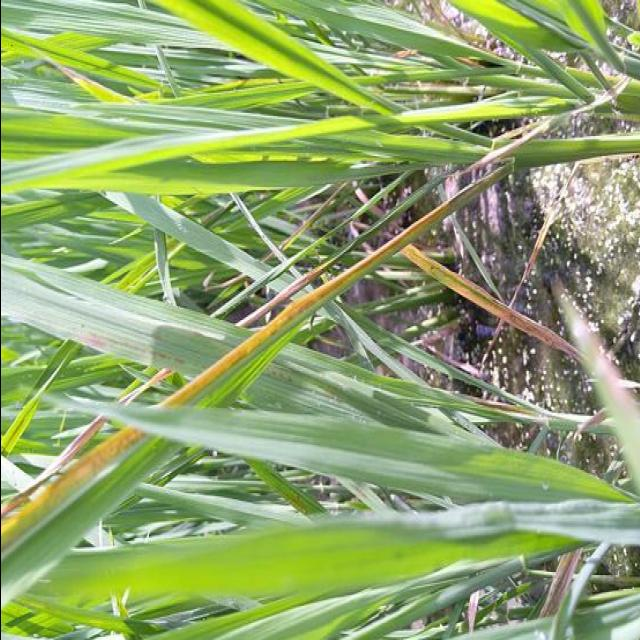Leaf Streak: (162, 164, 509, 407), (0, 425, 149, 559), (0, 416, 105, 519), (236, 263, 326, 326), (117, 368, 173, 407)
